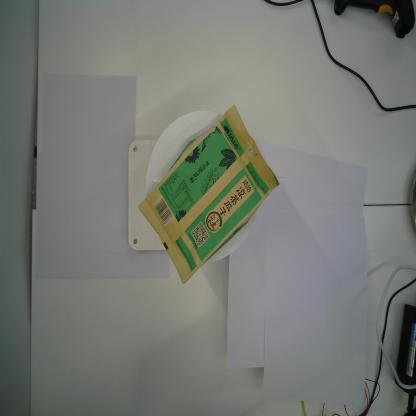Dried Food: (136, 102, 281, 286)
